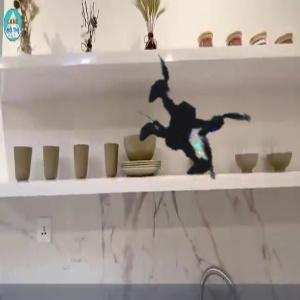drone: (61, 16, 291, 246)
